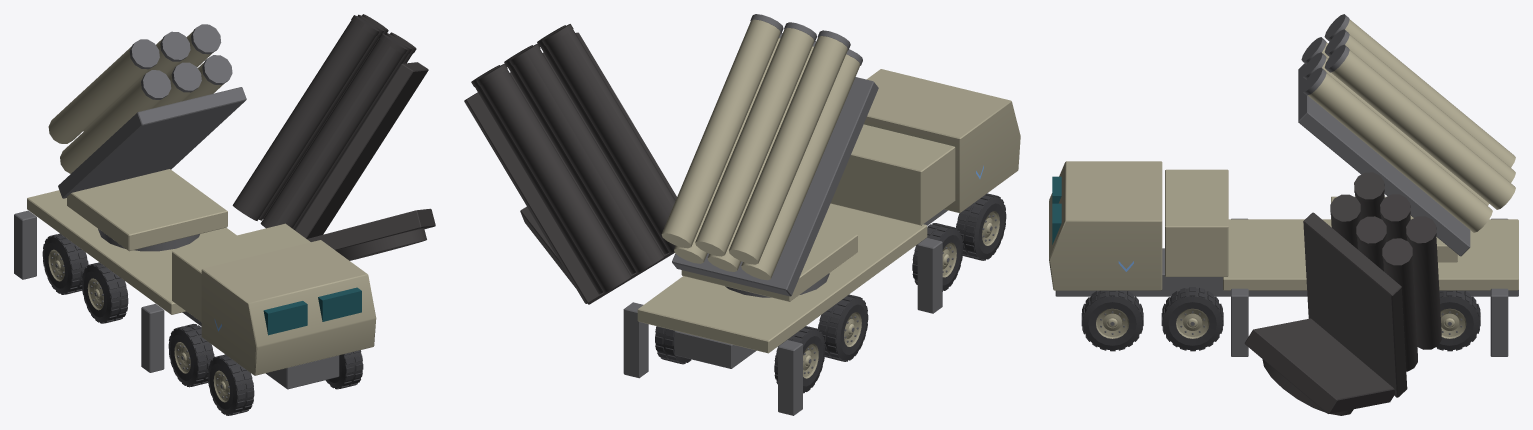
Rendered from abmLauncher__arrow_3.glb.
3 views of the same model, side by side, from view 1: azimuth 30°, elevation 25°; view 2: azimuth 150°, elevation 25°; view 3: azimuth 270°, elevation 25° (orthographic). The views are drawn at different scales.
Parts seen in each view (by area): view 1: Hull_Mesh, Wreck, Gun_Mesh, Turret_Mesh, Wheel_L3_Mesh, Wheel_L1_Mesh, Wheel_L2_Mesh, Wheel_L0_Mesh, Wheel_R3_Mesh; view 2: Hull_Mesh, Gun_Mesh, Wreck, Turret_Mesh, Wheel_L1_Mesh, Wheel_L3_Mesh, Wheel_L2_Mesh, Wheel_L0_Mesh, Wheel_R0_Mesh; view 3: Hull_Mesh, Wreck, Gun_Mesh, Wheel_R2_Mesh, Wheel_R3_Mesh, Wheel_R0_Mesh.
Boxes of the visible parts, <box> form: Hull_Mesh: <box>14,190,376,389</box>; Wreck: <box>106,14,435,387</box>; Gun_Mesh: <box>48,24,246,198</box>; Turret_Mesh: <box>67,169,227,251</box>; Wheel_L3_Mesh: <box>207,354,254,415</box>; Wheel_L1_Mesh: <box>82,262,128,323</box>; Wheel_L2_Mesh: <box>168,324,214,387</box>; Wheel_L0_Mesh: <box>42,233,88,294</box>; Wheel_R3_Mesh: <box>325,350,363,389</box>; Hull_Mesh: <box>623,69,1020,415</box>; Gun_Mesh: <box>661,14,878,296</box>; Wreck: <box>464,24,987,360</box>; Turret_Mesh: <box>681,225,857,301</box>; Wheel_L1_Mesh: <box>818,294,868,361</box>; Wheel_L3_Mesh: <box>956,193,1006,260</box>; Wheel_L2_Mesh: <box>912,223,963,291</box>; Wheel_L0_Mesh: <box>774,326,825,393</box>; Wheel_R0_Mesh: <box>655,326,691,364</box>; Hull_Mesh: <box>1049,161,1518,356</box>; Wreck: <box>1195,172,1441,415</box>; Gun_Mesh: <box>1298,14,1515,256</box>; Wheel_R2_Mesh: <box>1161,287,1223,351</box>; Wheel_R3_Mesh: <box>1081,290,1143,351</box>; Wheel_R0_Mesh: <box>1436,290,1480,351</box>.
Size of what is drawn, in the model's own units: 7.62 by 5.77 by 8.5.
